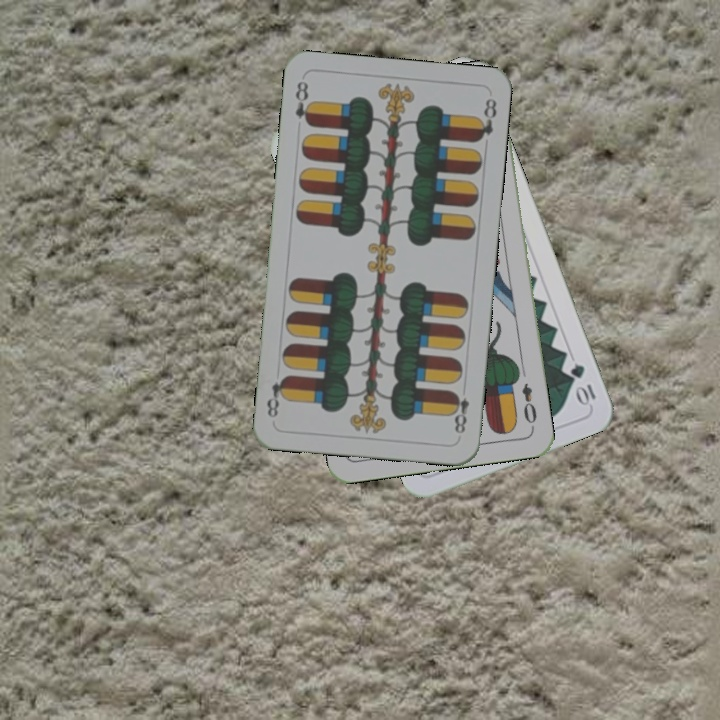E8: (447, 388, 472, 437), (291, 77, 315, 128)
EO: (518, 379, 540, 431)
G10: (566, 360, 599, 409)
